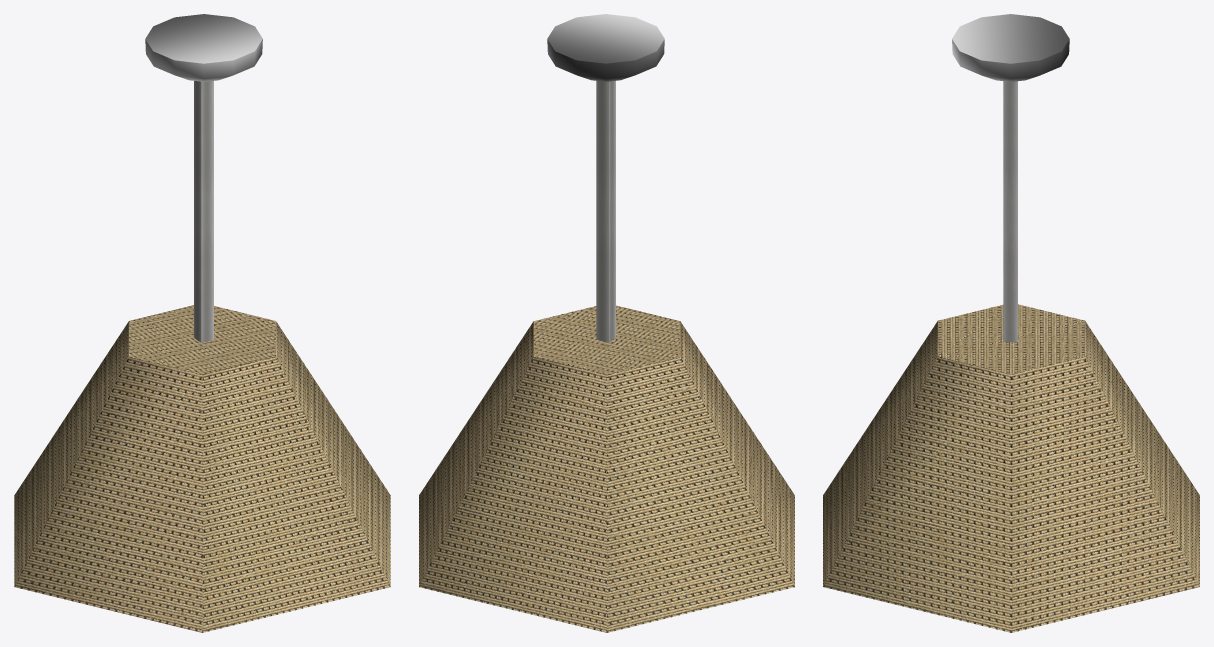
Rendered from Lamp.FBX.
3 views of the same model, side by side, from view 1: azimuth 30°, elevation 25°; view 2: azimuth 150°, elevation 25°; view 3: azimuth 270°, elevation 25° (orthographic).
Visible parts, largest first — view 1: Lamp; view 2: Lamp; view 3: Lamp.
Boxes of the visible parts, x1=… form: Lamp: x1=14, y1=14, x2=390, y2=632; Lamp: x1=419, y1=14, x2=794, y2=632; Lamp: x1=823, y1=14, x2=1199, y2=632.
Bounding box in the file's own units: 58.35 × 74.43 × 50.54.
